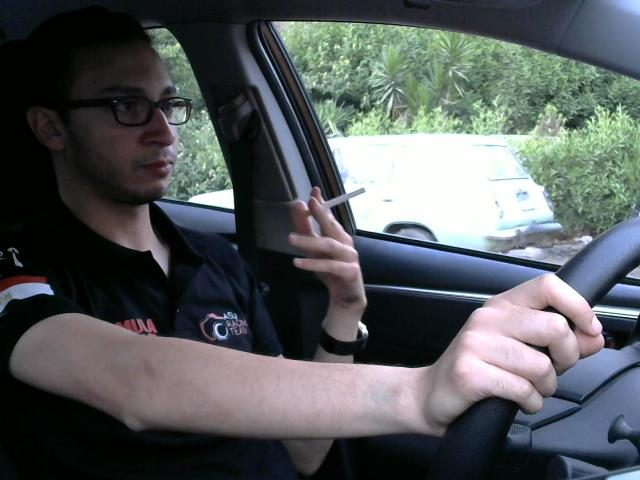Smoking: (302, 182, 370, 218)
